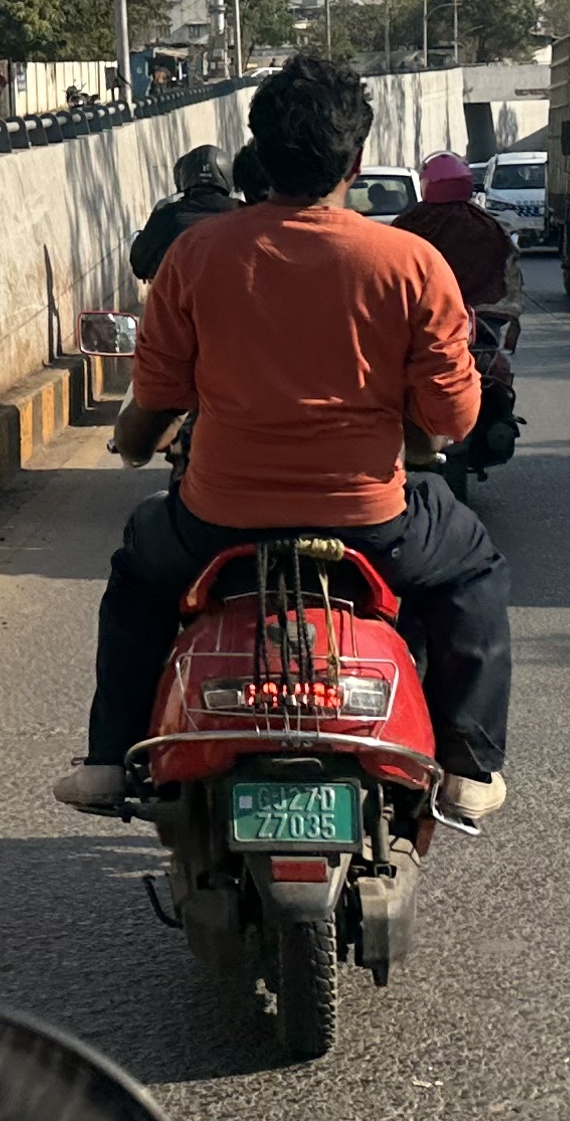BikeWithRider: (42, 41, 529, 1073)
NoHelmet: (230, 44, 386, 220)
